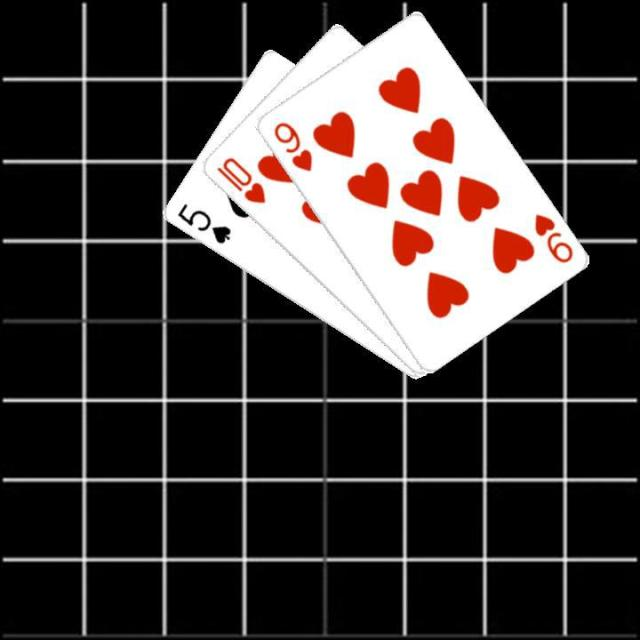10H: (212, 153, 268, 205)
5S: (172, 200, 233, 246)
9H: (268, 118, 314, 174), (529, 210, 575, 265)
